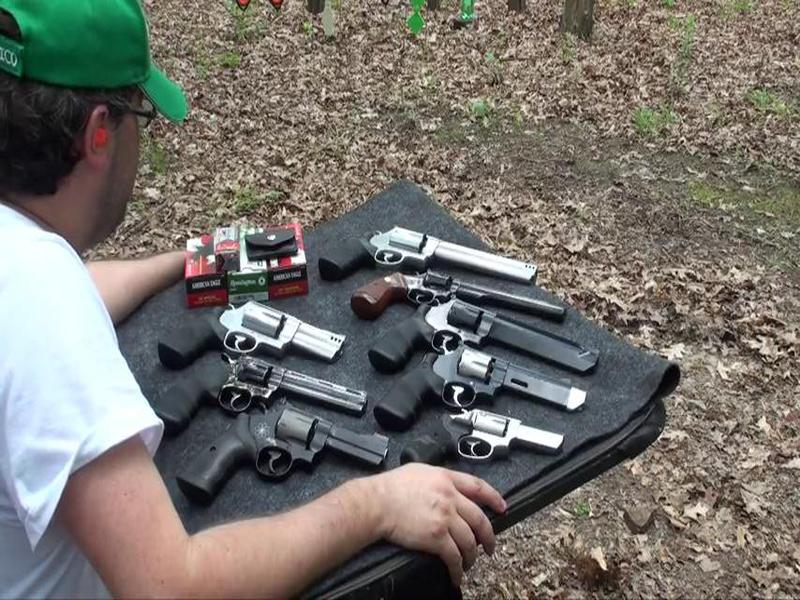Revolver: (337, 258, 562, 330)
